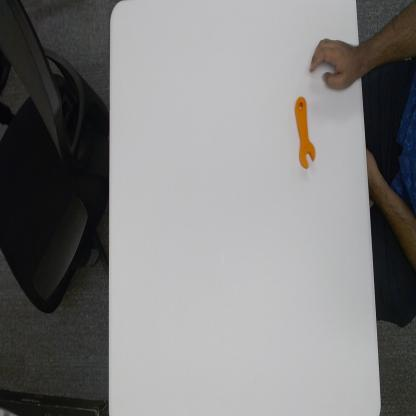Hand: (309, 33, 362, 91)
Screwdriver: (292, 92, 317, 172)
